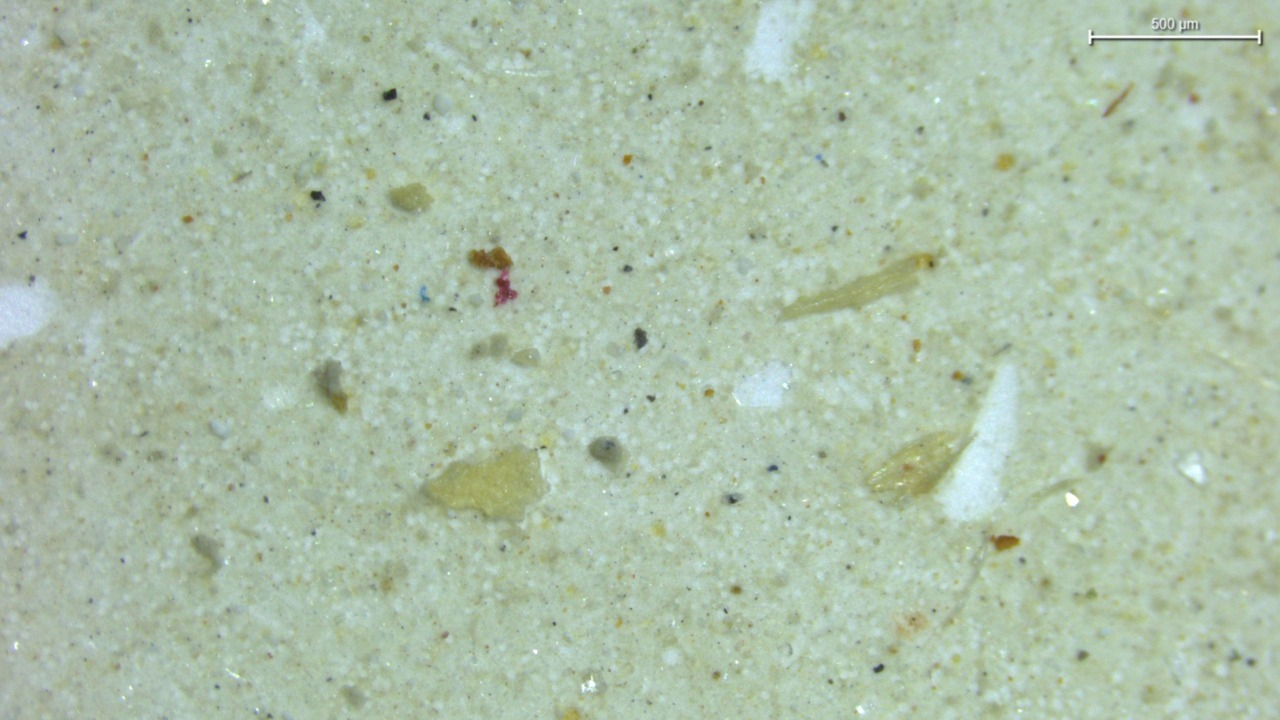microplastic_fragment: (423, 447, 548, 518), (867, 431, 973, 502), (389, 183, 433, 211)
